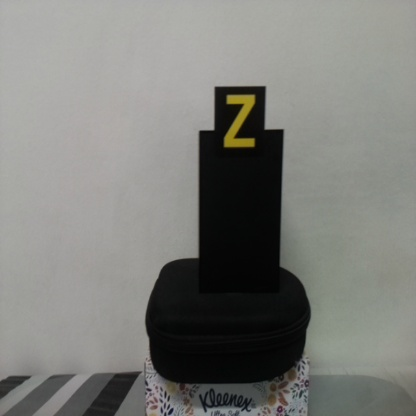id_15: (215, 88, 265, 161)
